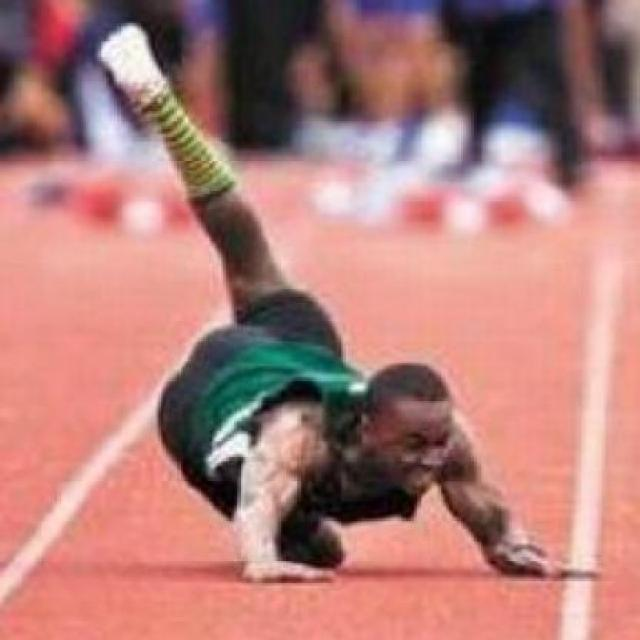fall: (79, 16, 592, 584)
